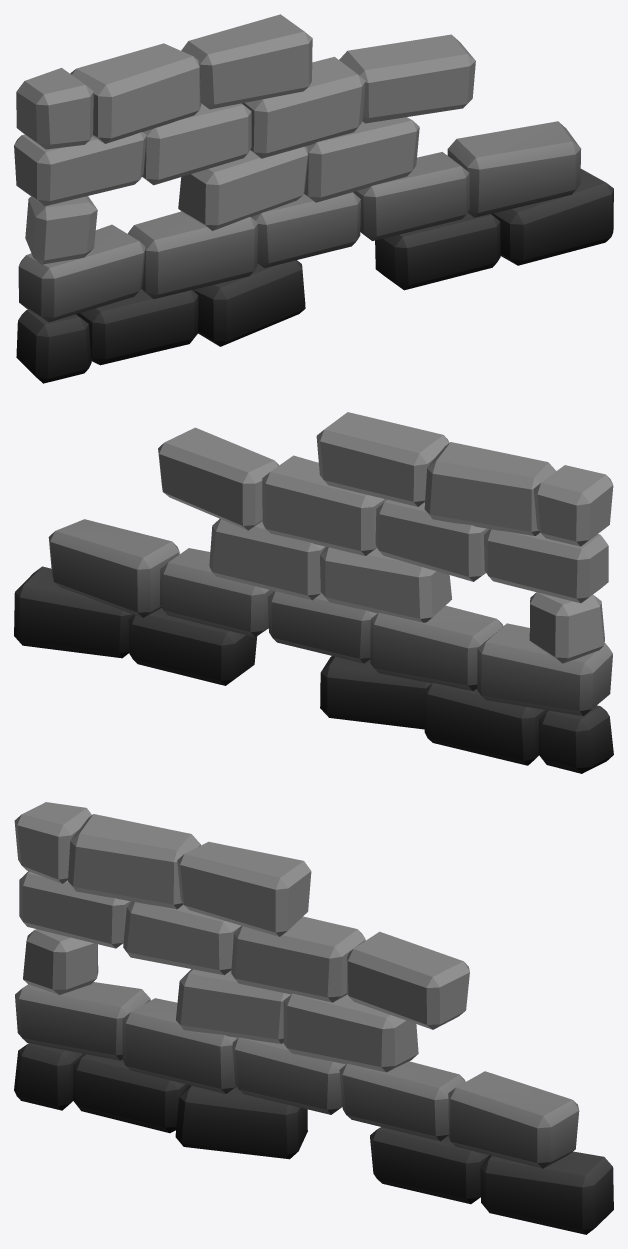
File: BrickWall2x1_01_Solo_Broken_R.fbx
3 views of the same model, one above another, from view 1: azimuth 30°, elevation 25°; view 2: azimuth 150°, elevation 25°; view 3: azimuth 330°, elevation 25° (orthographic).
Parts seen in each view (by area): view 1: BrickWall2x1_01_Solo_Broken_R; view 2: BrickWall2x1_01_Solo_Broken_R; view 3: BrickWall2x1_01_Solo_Broken_R.
Boxes of the visible parts, box(x1,y1,x2,y2) form: BrickWall2x1_01_Solo_Broken_R: box(14, 14, 613, 383); BrickWall2x1_01_Solo_Broken_R: box(14, 412, 613, 773); BrickWall2x1_01_Solo_Broken_R: box(14, 802, 613, 1234).
Size of the model in its own units: 213 by 101 by 28.17.
